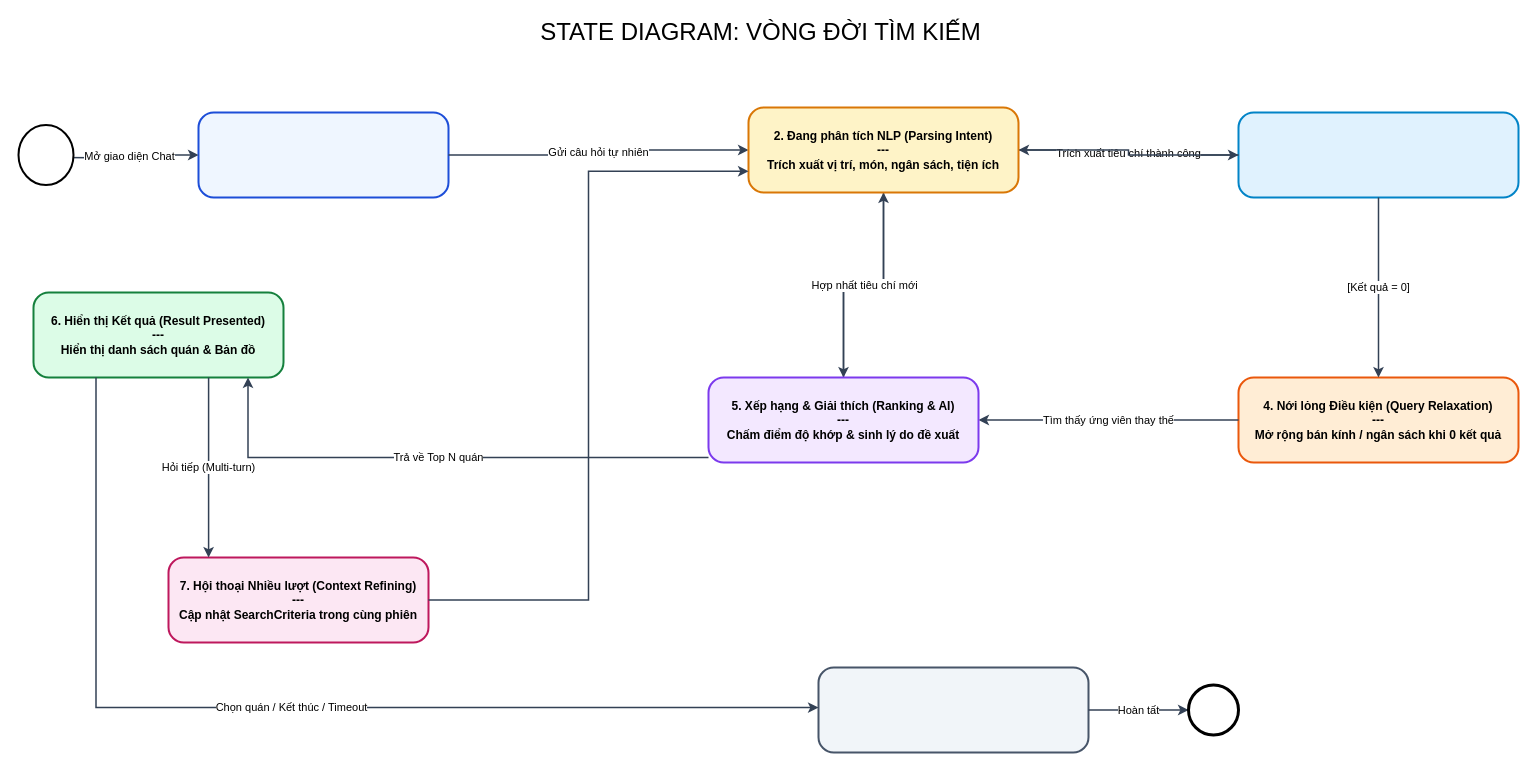
This 1536x770 diagram has some shape labels left out. The centre of each missing label's shape, as x and y in pixels:
1. Khởi tạo Phiên (Session Idle) --- Chờ câu hỏi hoặc vị trí GPS: [323,154]
3. Truy vấn Không gian (Spatial Filtering) --- Quét bán kính GPS & lọc tiện ích: [1378,154]
8. Đóng Phiên (Session Closed) --- Lưu lịch sử SearchSessions (status=closed): [953,709]
